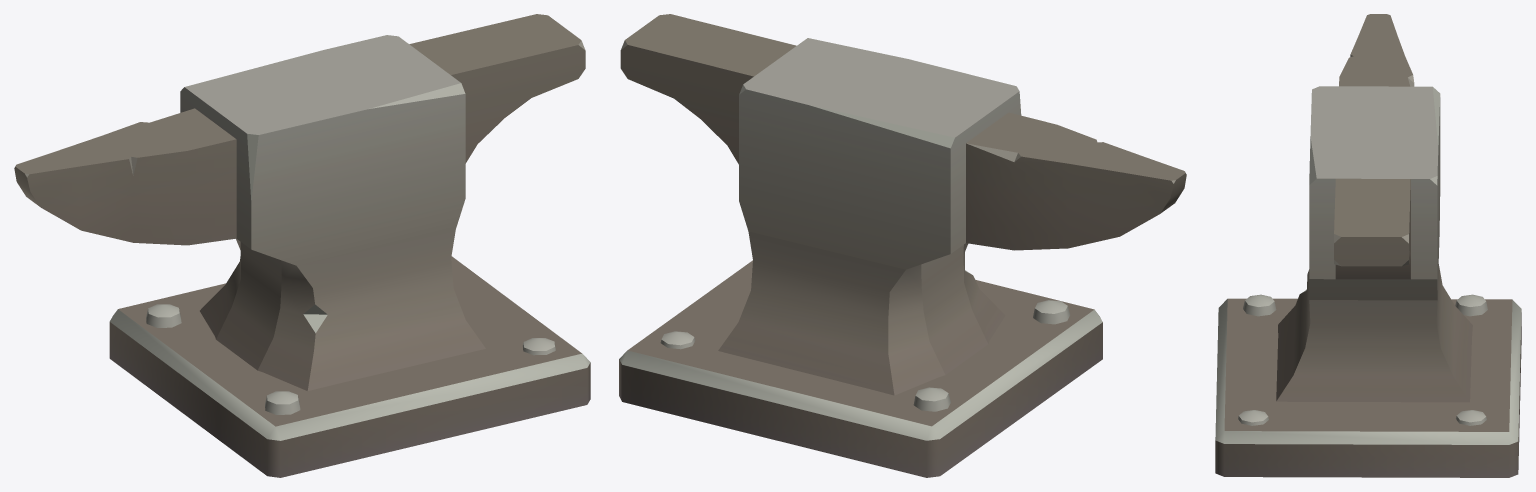
File: Ivory_A.glb
3 renders of one model, left to right at view 1: azimuth 30°, elevation 25°; view 2: azimuth 150°, elevation 25°; view 3: azimuth 270°, elevation 25°, orthographic. The views are drawn at different scales.
Parts seen in each view (by area): view 1: Ivory_A; view 2: Ivory_A; view 3: Ivory_A.
Part boxes in pixels (x1,y1,x2,y2): Ivory_A: [14, 14, 590, 477]; Ivory_A: [619, 14, 1186, 477]; Ivory_A: [1215, 14, 1521, 477].
Size of the model in its own units: 0.7423 by 0.3896 by 0.4085.
Materials: 1 (1 with a texture image).
